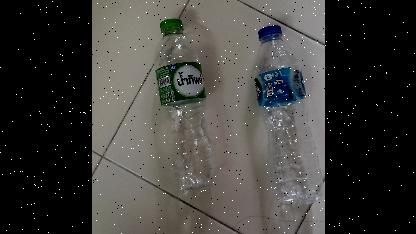Plastic Bottle: (249, 23, 325, 210), (148, 18, 216, 206)
